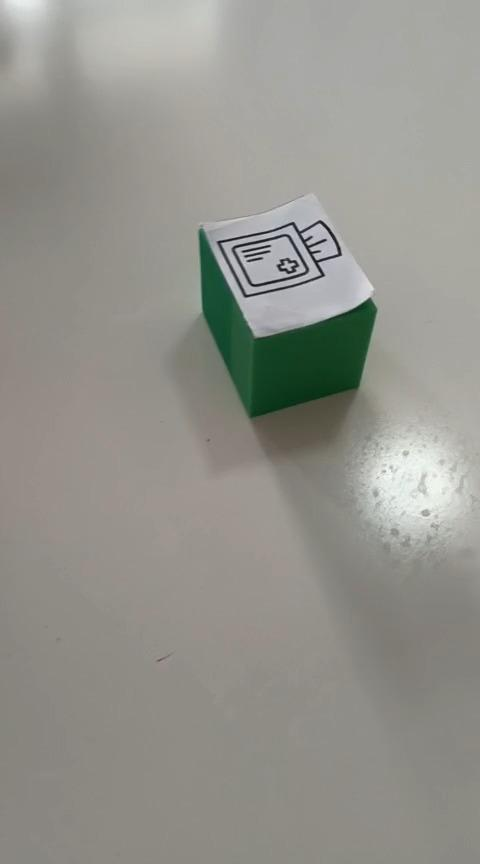Gauze: (196, 191, 378, 418)
